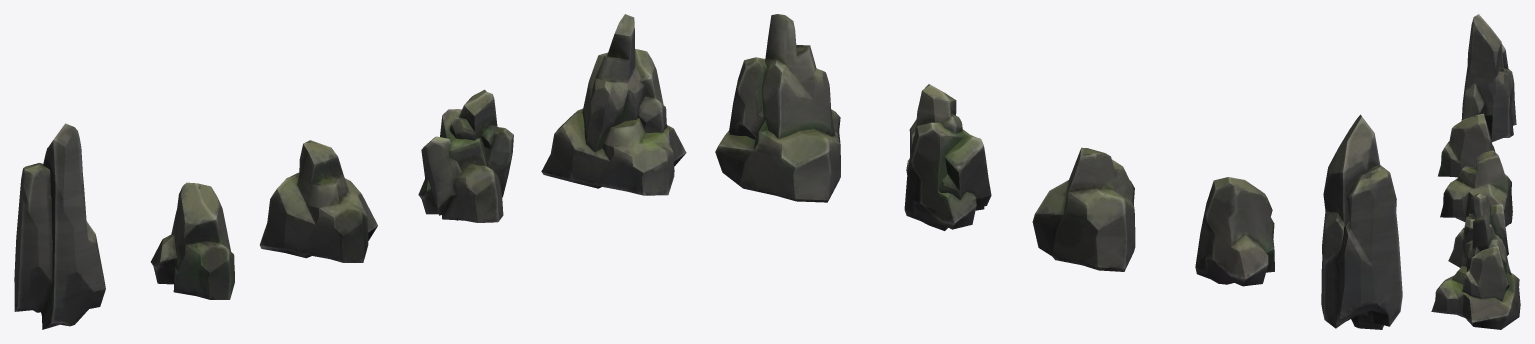
File: Rocks.glb
3 views of the same model, side by side, from view 1: azimuth 30°, elevation 25°; view 2: azimuth 150°, elevation 25°; view 3: azimuth 270°, elevation 25° (orthographic). The views are drawn at different scales.
Visible parts, largest first — view 1: Rock_5, Rock_4, Rock_2, Rock_3, Rock_1; view 2: Rock_5, Rock_4, Rock_2, Rock_3, Rock_1; view 3: Rock_5, Rock_4, Rock_2, Rock_1, Rock_3.
Part boxes in pixels (x1,y1,x2,y2): Rock_5: [541, 14, 686, 195]; Rock_4: [14, 123, 105, 329]; Rock_2: [260, 140, 377, 262]; Rock_3: [418, 89, 513, 222]; Rock_1: [151, 182, 234, 299]; Rock_5: [715, 14, 840, 202]; Rock_4: [1321, 114, 1402, 329]; Rock_2: [1032, 147, 1135, 271]; Rock_3: [904, 84, 991, 230]; Rock_1: [1195, 177, 1274, 286]; Rock_5: [1431, 214, 1520, 329]; Rock_4: [1461, 14, 1516, 142]; Rock_2: [1440, 150, 1512, 226]; Rock_1: [1438, 113, 1495, 177]; Rock_3: [1448, 193, 1508, 267].
Size of the model in its own units: 7.28 by 2.15 by 1.32.
1 material, 1 textured.
